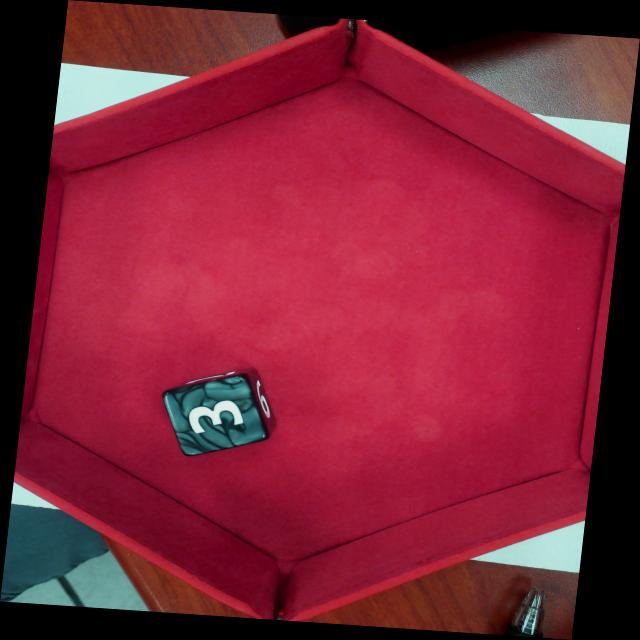dice: (160, 371, 273, 459)
